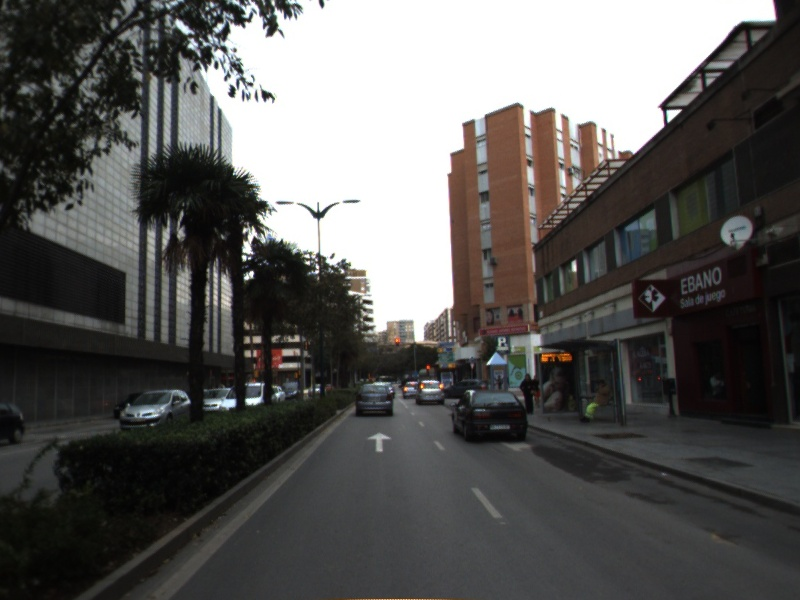STRAIGHT: (365, 430, 394, 454)
